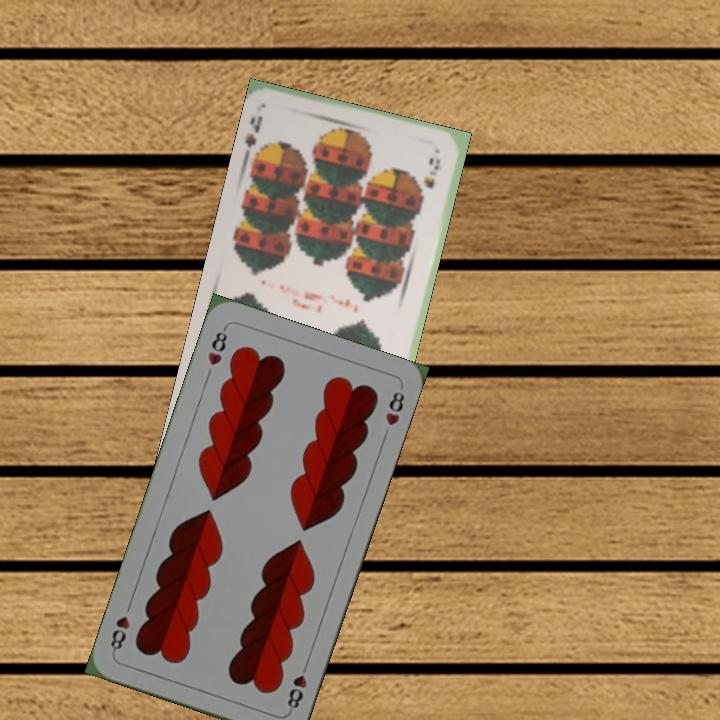H8: (283, 658, 311, 715), (203, 323, 230, 368)
S9: (239, 111, 269, 165)
